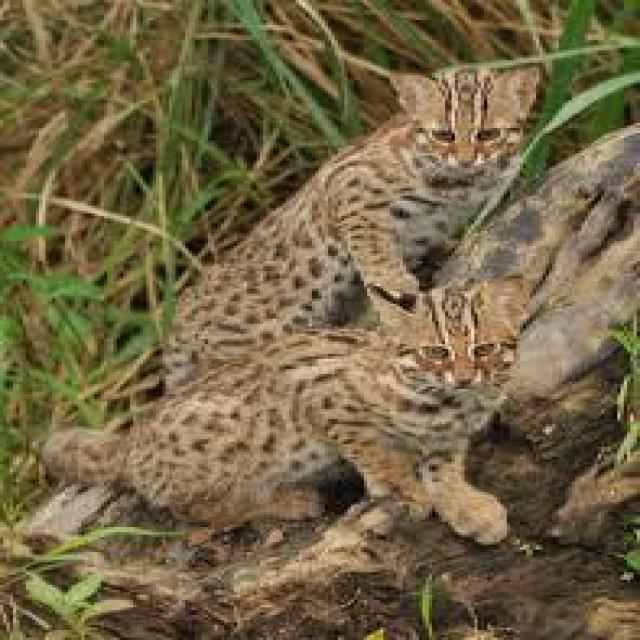leopard: (382, 282, 511, 516), (399, 84, 507, 246)
